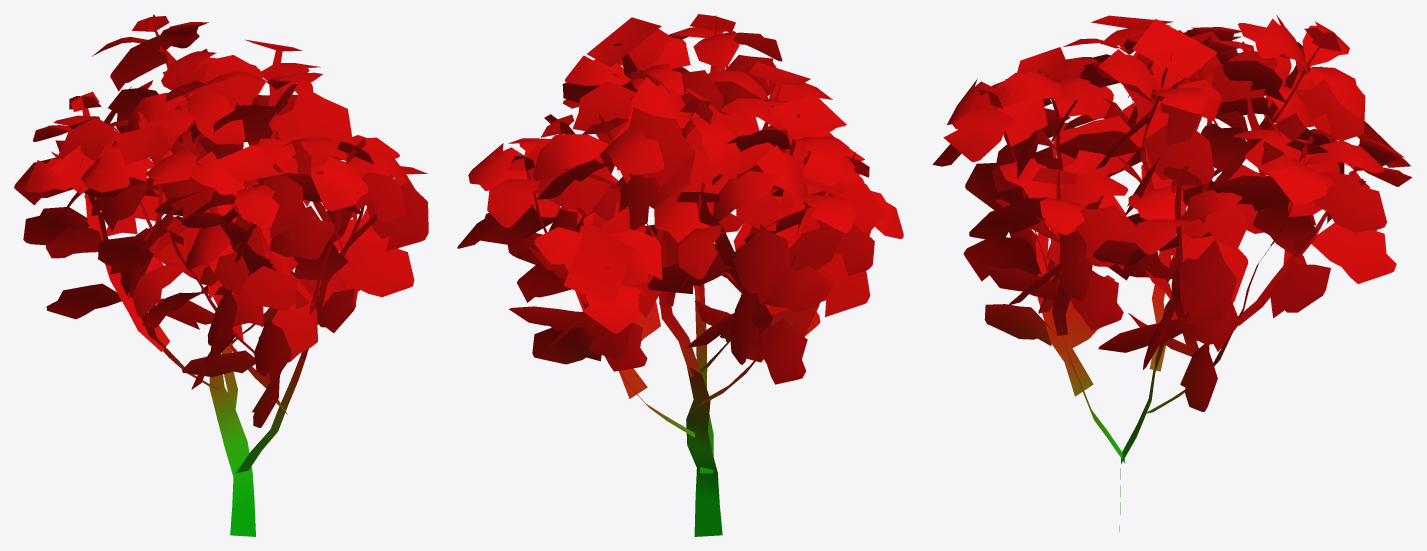
The model's file is Rose Hip_LOD4_Var2.fbx.
The picture shows the model from 3 angles, left to right: view 1: azimuth 30°, elevation 25°; view 2: azimuth 150°, elevation 25°; view 3: azimuth 270°, elevation 25°; orthographic projection. The views are drawn at different scales.
Parts seen in each view (by area): view 1: _dgsg_Var2_LOD4; view 2: _dgsg_Var2_LOD4; view 3: _dgsg_Var2_LOD4.
Part boxes in pixels (bbox=[...]): _dgsg_Var2_LOD4: bbox=[14, 14, 428, 536]; _dgsg_Var2_LOD4: bbox=[457, 14, 903, 536]; _dgsg_Var2_LOD4: bbox=[932, 15, 1411, 531].
Size of the model in its own units: 88.78 by 117 by 97.26.
